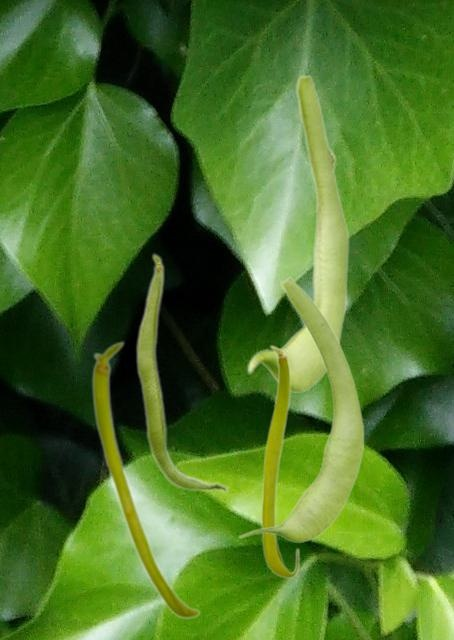french_bean: (237, 275, 364, 541), (246, 73, 348, 391), (91, 340, 200, 619), (134, 252, 229, 493), (260, 344, 299, 578)
